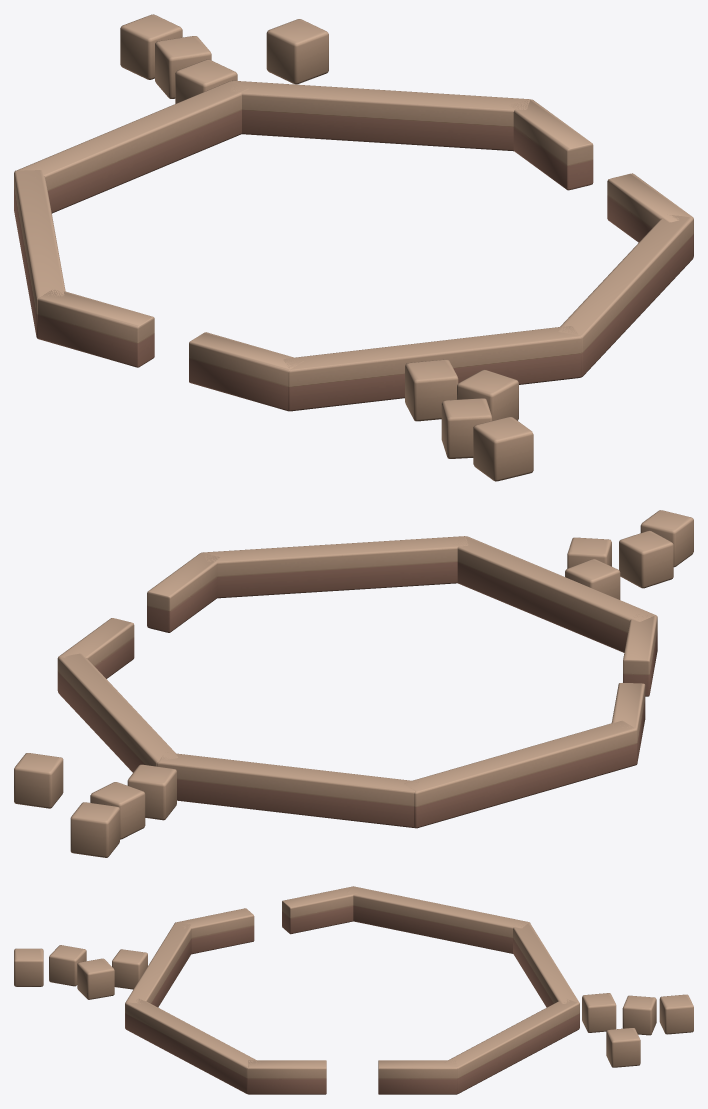
File: Props.fbx
3 renders of one model, top to bottom at view 1: azimuth 30°, elevation 25°; view 2: azimuth 150°, elevation 25°; view 3: azimuth 270°, elevation 25°, orthographic. The views are drawn at different scales.
Visible parts, largest first — view 1: Box20-3_1 (9), Box20-3_1 (10), Box20-3_1 (11), Box20-3_1 (8), Box20-3_1 (14), Box20-3_1 (13), Box20-3_1 (7), Box20-3_1 (12), Box1-5 (4), Box1-5 (1), Box20-3_1 (5), Box1-5 (5) (+5 smaller); view 2: Box20-3_1 (8), Box20-3_1 (11), Box20-3_1 (7), Box20-3_1 (10), Box20-3_1 (9), Box20-3_1 (5), Box1-5 (6), Box20-3_1 (12), Box1-5 (3), Box1-5 (4), Box20-3_1 (13), Box1-5 (+5 smaller); view 3: Box20-3_1 (7), Box20-3_1 (9), Box20-3_1 (8), Box20-3_1 (5), Box20-3_1 (12), Box20-3_1 (10), Box20-3_1 (11), Box20-3_1 (14), Box20-3_1 (13), Box1-5 (7), Box1-5 (3), Box1-5 (4) (+5 smaller).
Boxes of the visible parts, x1,y1,x2,y2 form: Box20-3_1 (9): [231, 80, 530, 151]; Box20-3_1 (10): [283, 326, 581, 411]; Box20-3_1 (11): [17, 81, 248, 213]; Box20-3_1 (8): [558, 215, 693, 377]; Box20-3_1 (14): [38, 290, 154, 367]; Box20-3_1 (13): [189, 332, 303, 411]; Box20-3_1 (7): [14, 170, 65, 338]; Box20-3_1 (12): [511, 99, 593, 190]; Box1-5 (4): [266, 19, 328, 84]; Box1-5 (1): [473, 416, 533, 481]; Box20-3_1 (5): [607, 173, 693, 242]; Box1-5 (5): [405, 359, 458, 421]; Box20-3_1 (8): [202, 536, 468, 598]; Box20-3_1 (11): [157, 752, 419, 827]; Box20-3_1 (7): [404, 720, 637, 828]; Box20-3_1 (10): [452, 536, 656, 652]; Box20-3_1 (9): [58, 653, 177, 772]; Box20-3_1 (5): [147, 552, 221, 632]; Box1-5 (6): [619, 530, 673, 588]; Box20-3_1 (12): [57, 618, 134, 690]; Box1-5 (3): [70, 802, 119, 857]; Box1-5 (4): [14, 753, 63, 808]; Box20-3_1 (13): [623, 615, 657, 696]; Box1-5: [127, 764, 176, 820]; Box20-3_1 (7): [347, 886, 529, 953]; Box20-3_1 (9): [444, 999, 579, 1094]; Box20-3_1 (8): [125, 998, 257, 1093]; Box20-3_1 (5): [247, 1060, 326, 1094]; Box20-3_1 (12): [378, 1060, 457, 1094]; Box20-3_1 (10): [125, 922, 191, 1007]; Box20-3_1 (11): [513, 923, 579, 1027]; Box20-3_1 (14): [282, 886, 358, 934]; Box20-3_1 (13): [175, 908, 254, 954]; Box1-5 (7): [77, 958, 114, 999]; Box1-5 (3): [659, 994, 693, 1034]; Box1-5 (4): [606, 1028, 640, 1067].
Bounding box in the file's own units: 21.79 × 1.5 × 34.35.
